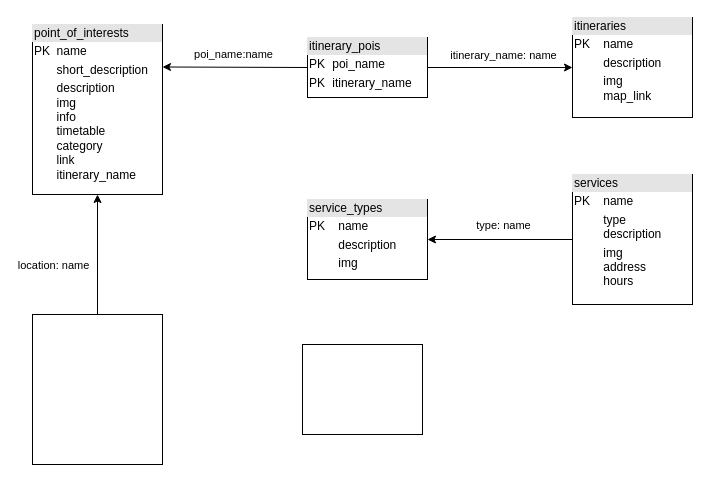
The diagram is 710 pixels wide and 482 high, and some of its shapes have lost their labels. Here are the shapes that lost their labels. From the top down, the box of each, then its label:
(32, 314, 162, 464): events PK name description season img location period date type
(302, 344, 422, 434): messages PK id name email message
